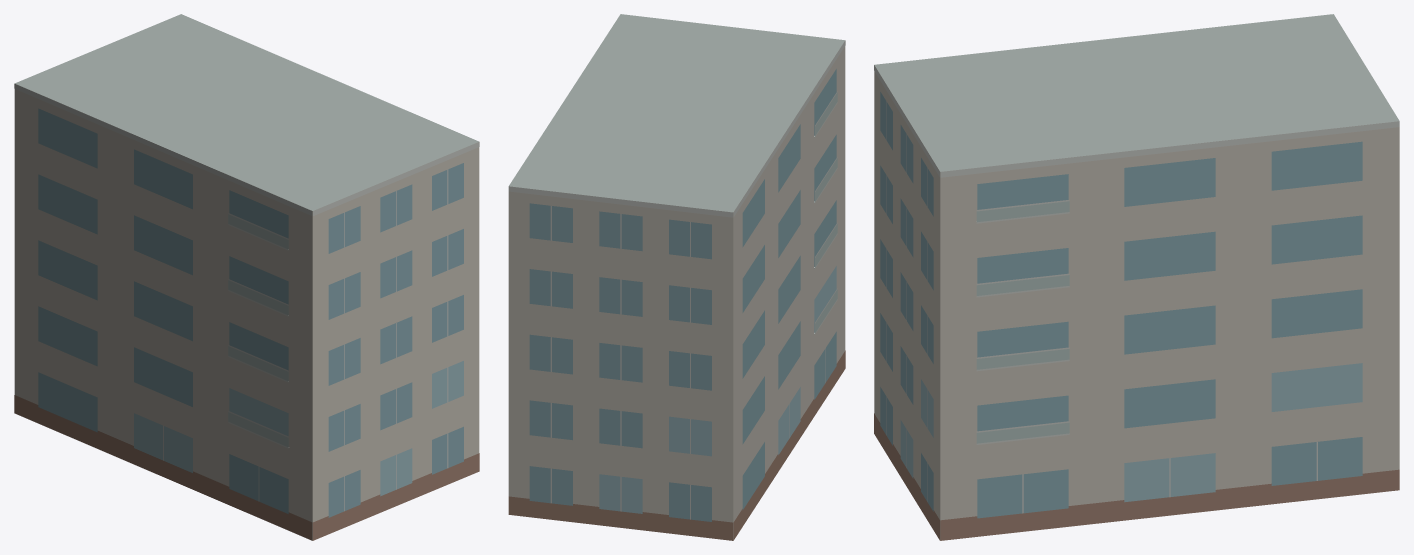
The model's file is survey-upis-32972449.glb.
3 views of the same model, side by side, from view 1: azimuth 30°, elevation 25°; view 2: azimuth 150°, elevation 25°; view 3: azimuth 270°, elevation 25° (orthographic). The views are drawn at different scales.
Visible parts, largest first — view 1: survey-upis-32972449.tmp; view 2: survey-upis-32972449.tmp; view 3: survey-upis-32972449.tmp.
Part boxes in pixels (x1=…): survey-upis-32972449.tmp: x1=14, y1=14, x2=479, y2=540; survey-upis-32972449.tmp: x1=508, y1=14, x2=845, y2=540; survey-upis-32972449.tmp: x1=874, y1=14, x2=1399, y2=540.
Size of the model in its own units: 14 by 15.25 by 19.7.
